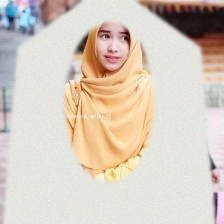Mukena: (0, 28, 221, 224)
